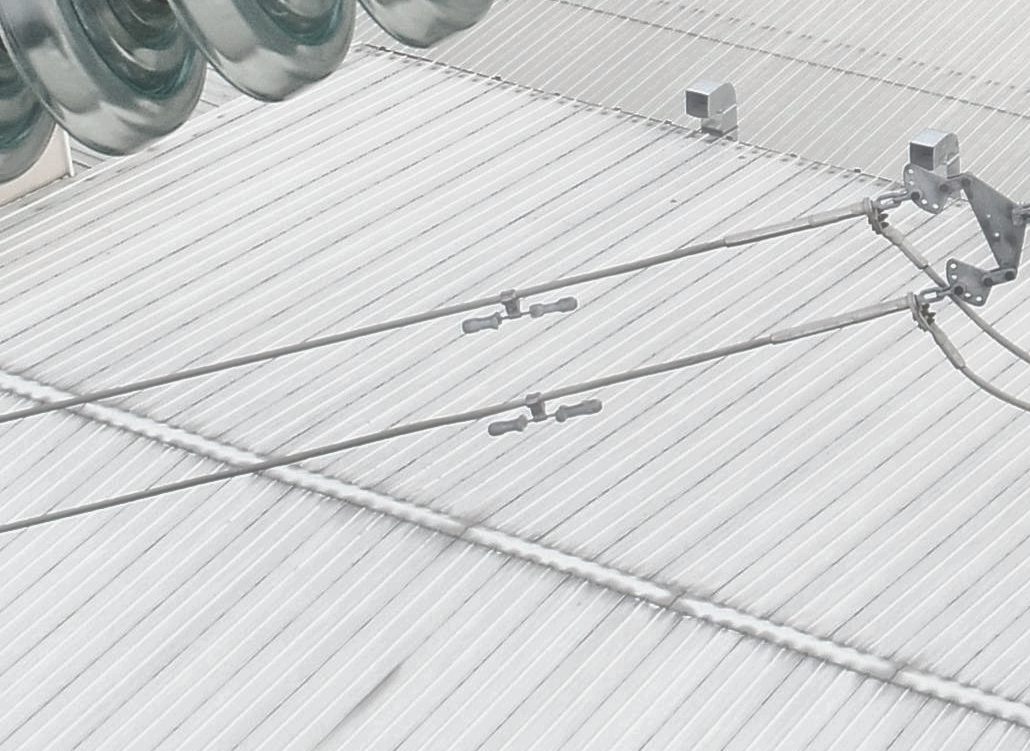damper: (457, 283, 581, 336), (483, 386, 605, 439)
